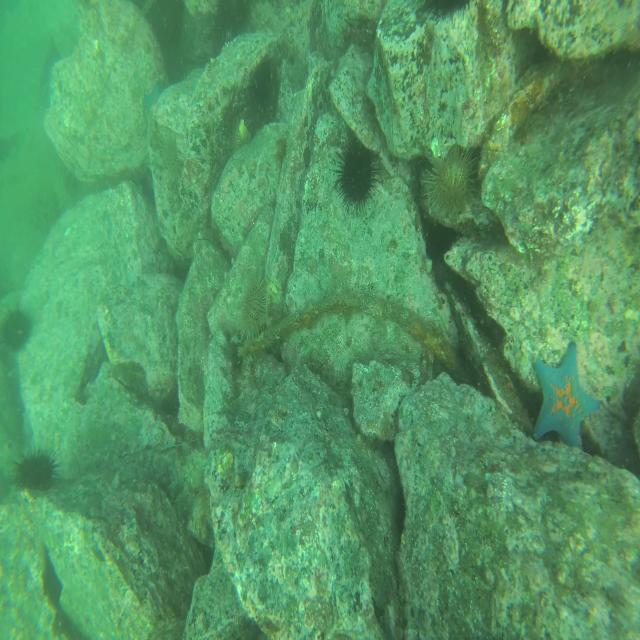echinus: (424, 154, 476, 218), (337, 140, 374, 209), (239, 280, 271, 347), (16, 451, 55, 493), (1, 309, 32, 353), (250, 54, 276, 104)
starfish: (532, 342, 600, 447), (142, 82, 164, 124)
